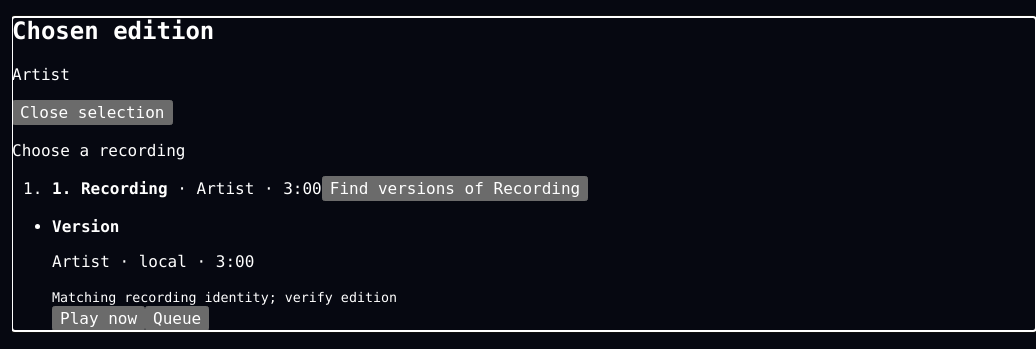
Scenario: explicit release selection › uses play intent only after a click, without optimistic playback state
Click the button "Play now" at (99, 318), box [52, 306, 145, 331]
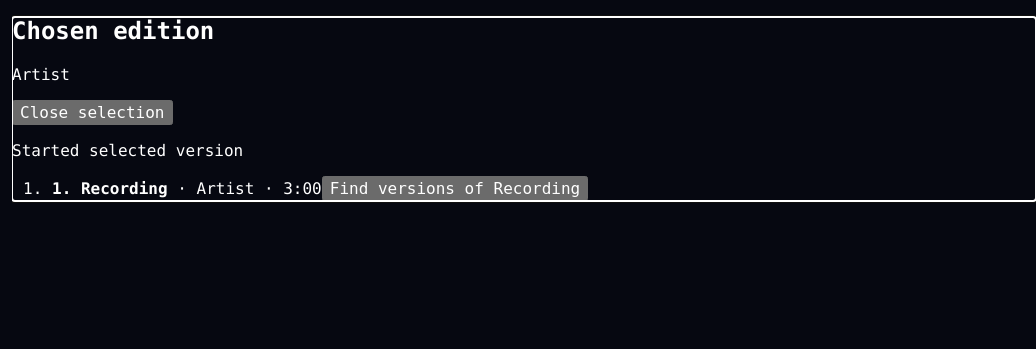
Expected: the message reads "Started selected version", [12, 141, 243, 160]
